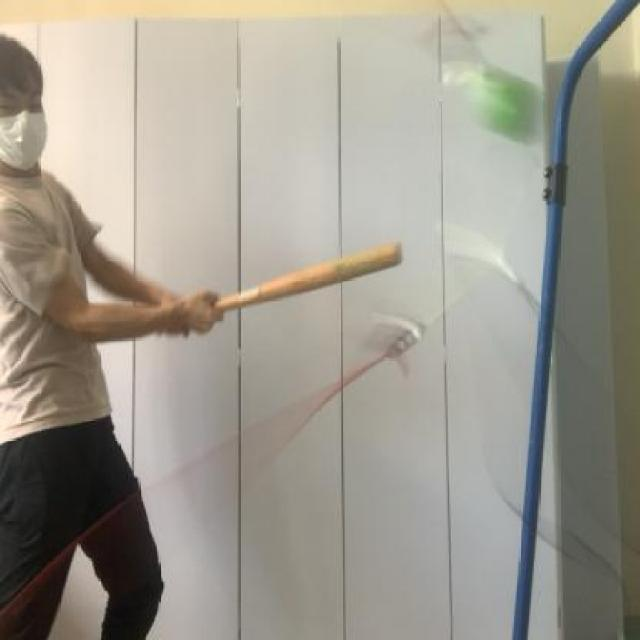baseball: (465, 50, 550, 152)
